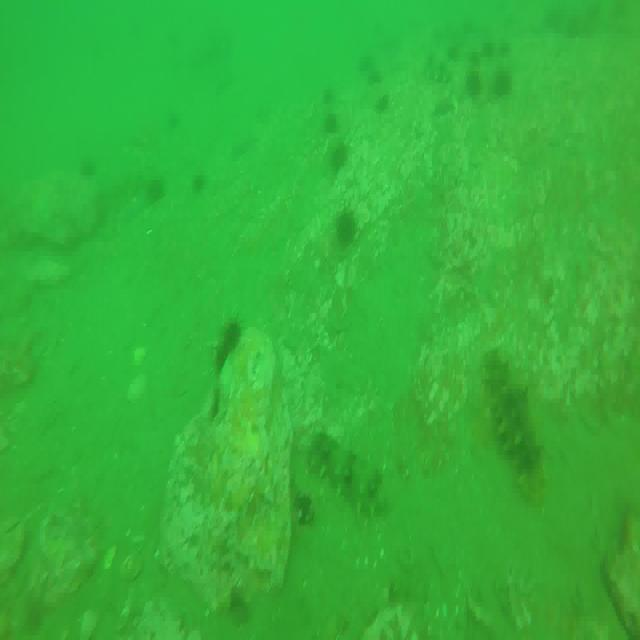echinus: (330, 210, 360, 253), (218, 319, 242, 349), (210, 385, 228, 422), (329, 139, 347, 175), (213, 343, 230, 378), (466, 70, 482, 95), (323, 113, 340, 134), (374, 90, 387, 113), (496, 39, 508, 63), (495, 69, 509, 88), (326, 93, 338, 114), (368, 65, 379, 87), (357, 54, 372, 70), (480, 37, 494, 54), (469, 52, 481, 66)
holothurian: (485, 353, 546, 499), (313, 434, 386, 516), (420, 59, 456, 85)
scallop: (119, 556, 146, 585), (125, 376, 146, 408)
